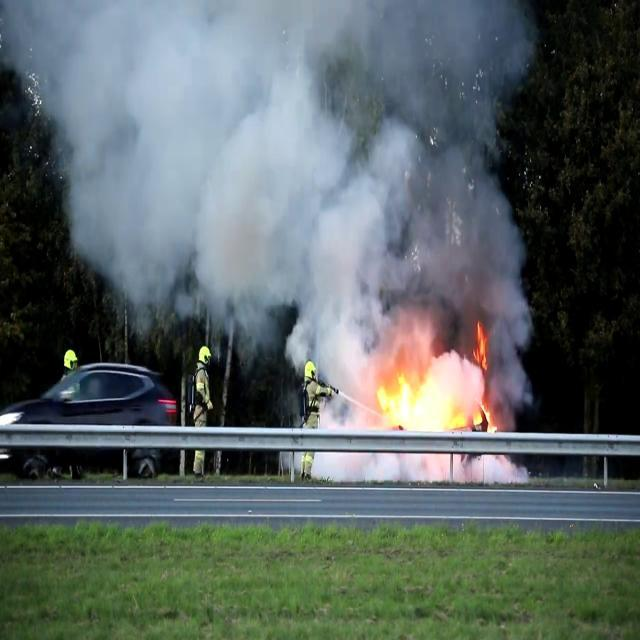Fire: (369, 352, 496, 437)
Smoke: (4, 0, 542, 349)
